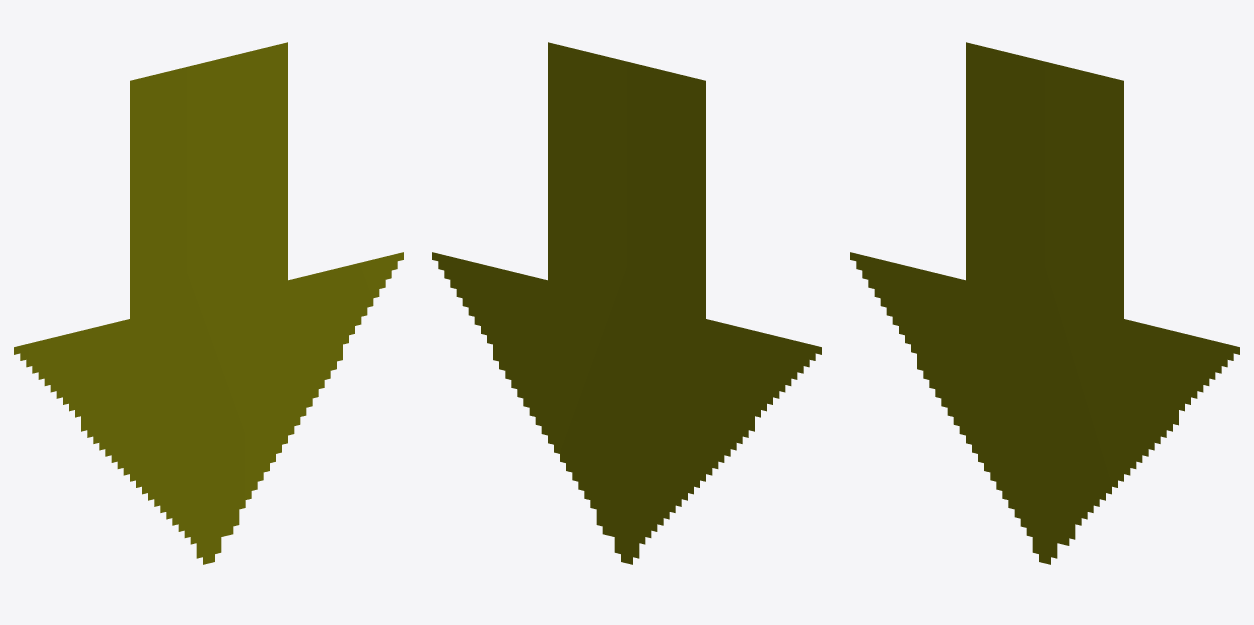
File: Aztec_Alpha_108.glb
3 renders of one model, left to right at view 1: azimuth 30°, elevation 25°; view 2: azimuth 150°, elevation 25°; view 3: azimuth 330°, elevation 25°, orthographic.
Visible parts, largest first — view 1: Aztec_Alpha_108; view 2: Aztec_Alpha_108; view 3: Aztec_Alpha_108.
Boxes of the visible parts, x1,y1,x2,y2 form: Aztec_Alpha_108: (14, 42, 403, 564); Aztec_Alpha_108: (432, 42, 821, 564); Aztec_Alpha_108: (850, 42, 1239, 564).
Bounding box in the file's own units: 3.25 × 4 × 3.55e-15.
1 material, 1 textured.
